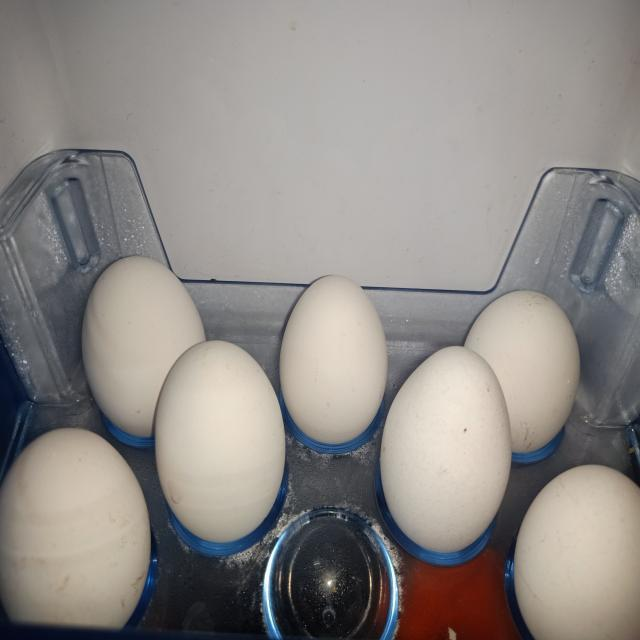Egg: (0, 429, 150, 629), (381, 346, 512, 553), (155, 340, 285, 543), (81, 256, 205, 437), (515, 465, 640, 639), (279, 275, 388, 454), (465, 290, 581, 453)
